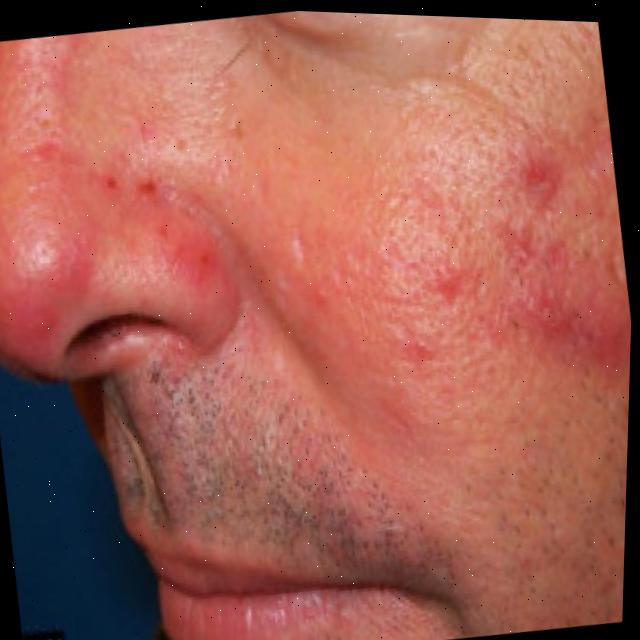Rosacea: (0, 12, 254, 377), (376, 95, 638, 405)
